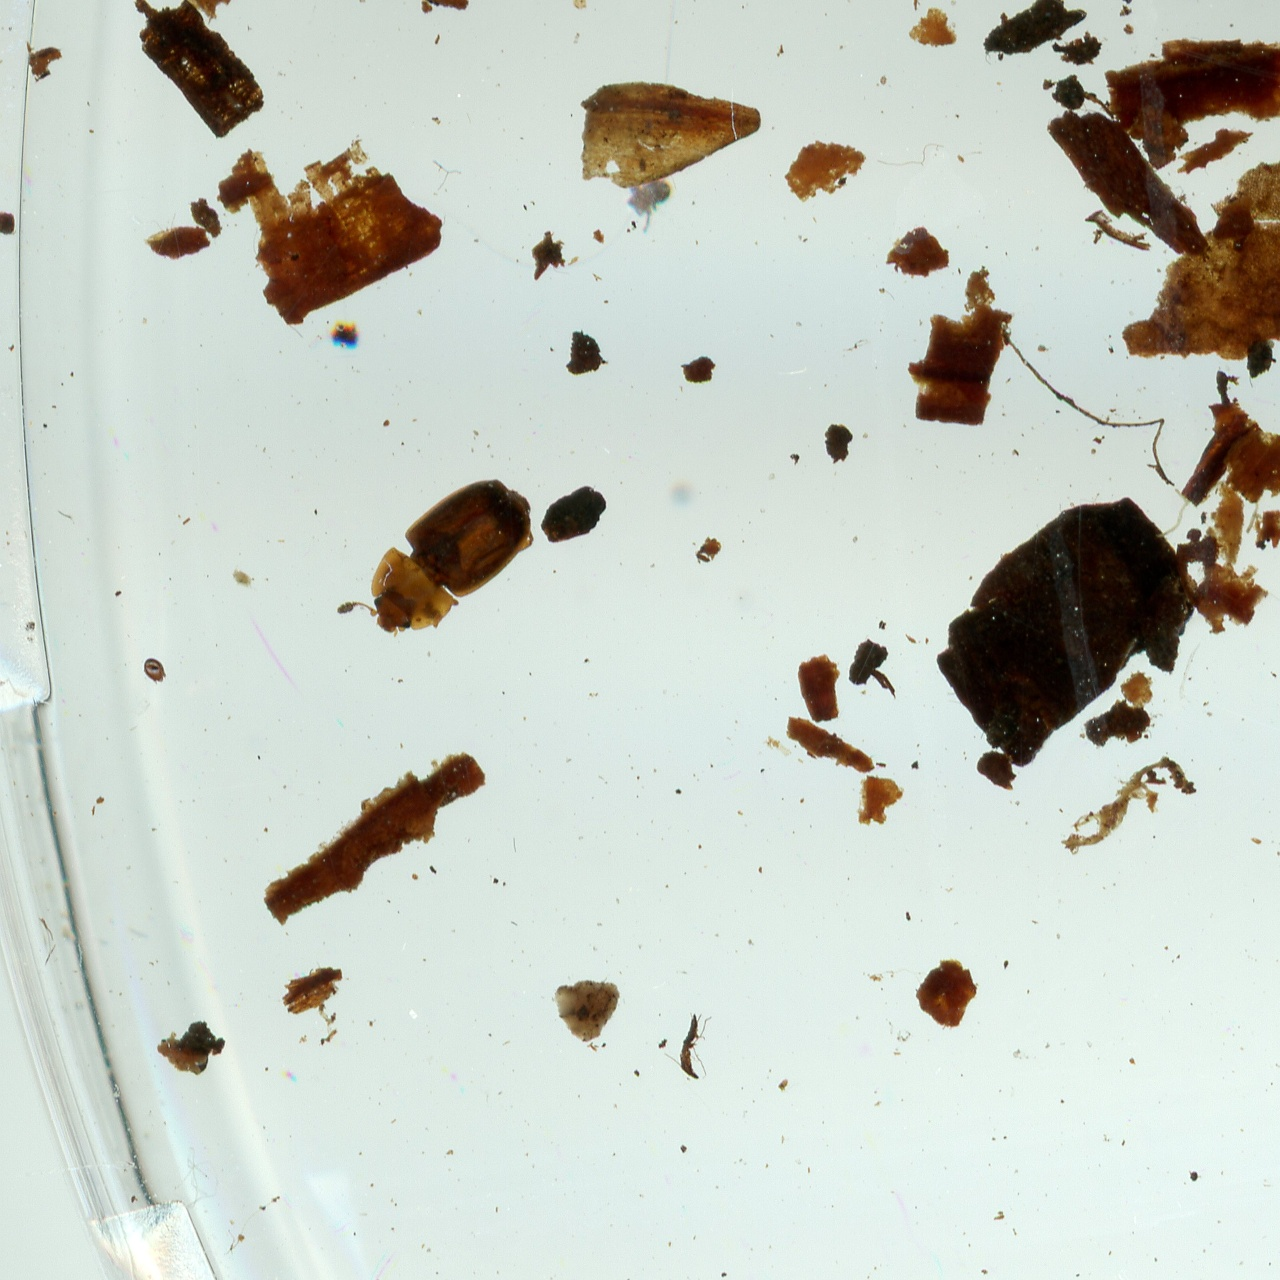arthropod: (319, 448, 560, 681), (626, 176, 673, 236), (143, 655, 170, 687)
